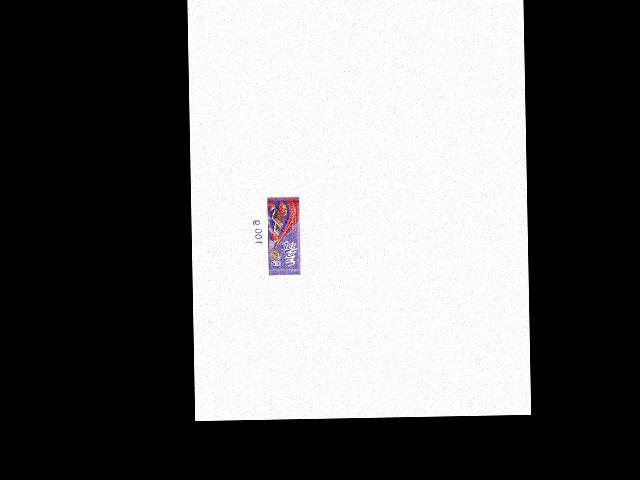chocolate: (263, 196, 300, 275)
